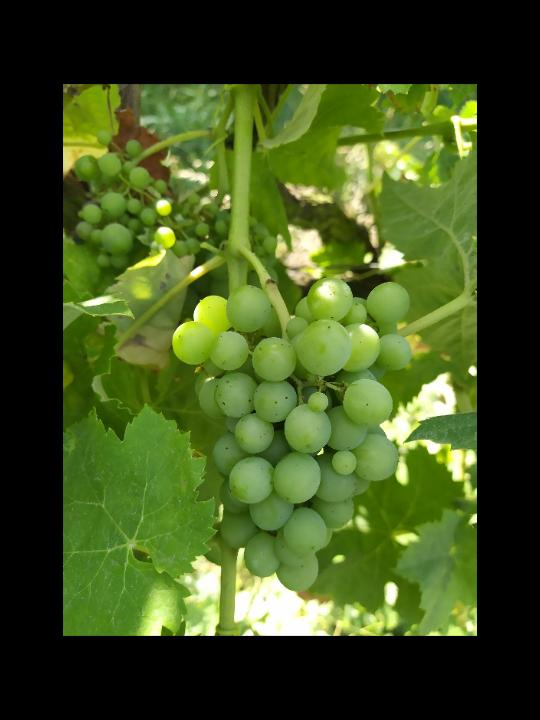grape: (170, 276, 413, 591)
